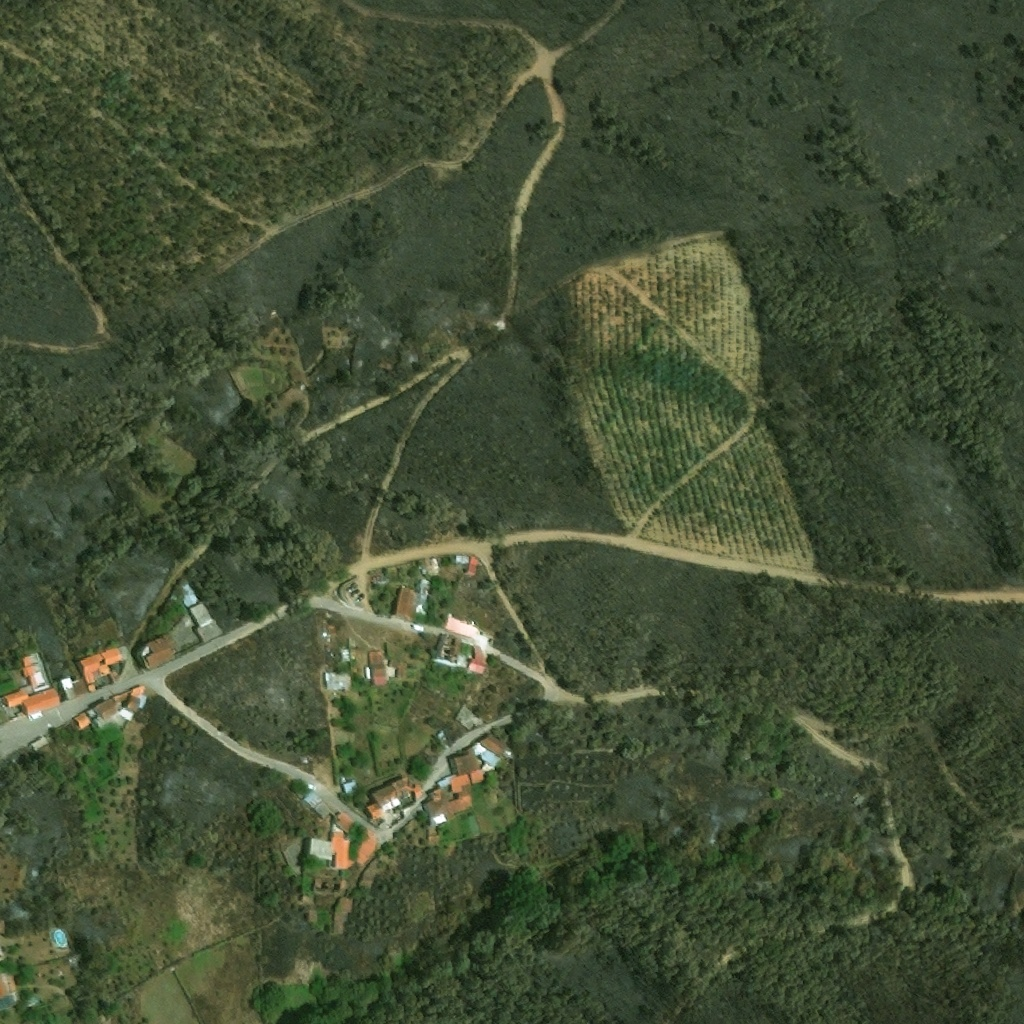0 no-damage: (336, 808, 386, 866), (453, 741, 503, 774), (19, 650, 54, 693), (190, 602, 224, 644), (432, 632, 468, 669), (78, 652, 109, 693), (446, 613, 487, 641), (146, 631, 176, 669), (23, 687, 62, 715), (370, 782, 403, 814), (426, 789, 456, 823), (357, 857, 386, 890), (330, 897, 354, 936), (482, 732, 516, 759), (454, 705, 484, 732), (331, 832, 350, 872), (414, 578, 435, 614), (176, 579, 203, 607), (467, 646, 490, 676), (396, 587, 418, 618), (103, 644, 132, 665), (60, 677, 86, 700), (370, 651, 386, 688), (335, 777, 361, 799), (325, 672, 353, 692), (451, 790, 474, 814), (0, 969, 19, 998), (94, 697, 119, 719), (390, 774, 413, 797), (2, 686, 27, 707), (309, 839, 331, 862), (451, 771, 472, 793), (313, 876, 337, 894), (364, 801, 385, 821), (131, 685, 149, 708), (74, 710, 93, 730), (0, 992, 19, 1012), (437, 773, 455, 790), (30, 735, 49, 751), (113, 690, 132, 706), (430, 811, 450, 826), (470, 768, 487, 784), (392, 658, 405, 678), (119, 706, 135, 721), (468, 556, 480, 574), (412, 784, 425, 798), (24, 684, 35, 698), (307, 910, 318, 924), (429, 836, 441, 848), (456, 555, 469, 565), (87, 707, 98, 718), (0, 920, 6, 934), (27, 996, 36, 1005), (366, 667, 371, 679)
